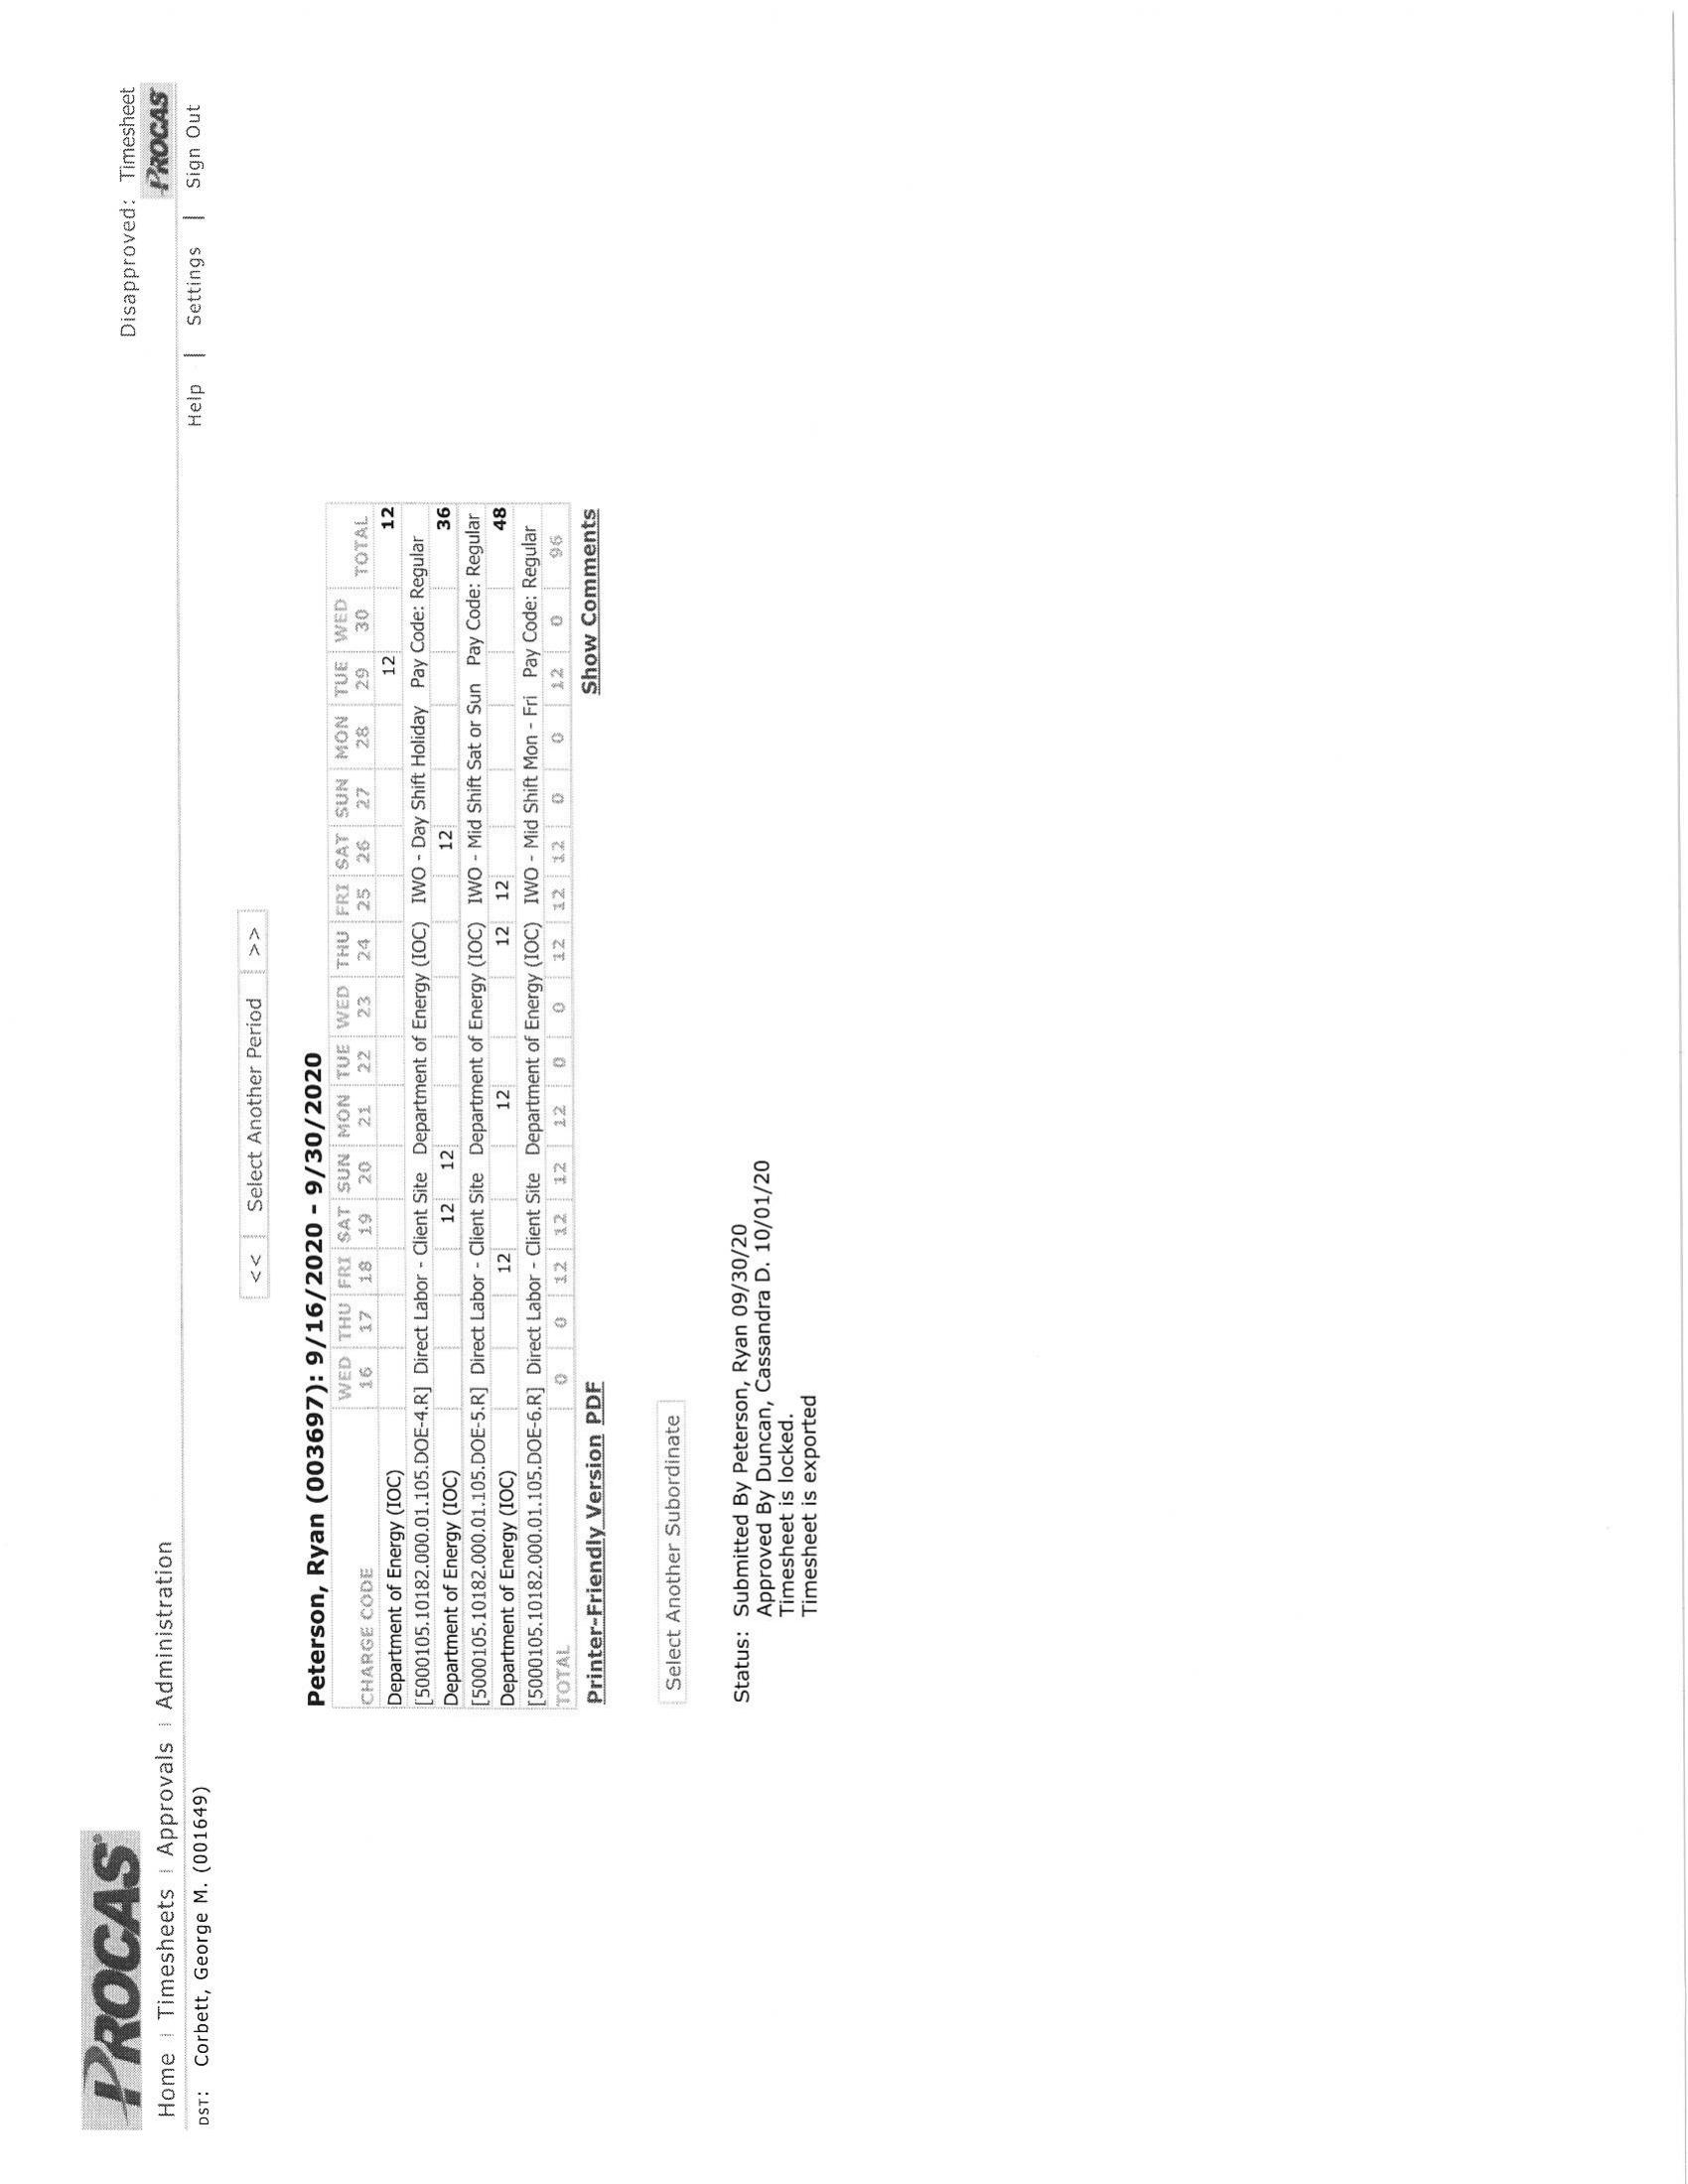table: (312, 484, 578, 1720)
